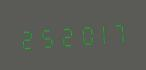five: (35, 22, 52, 51)
one: (90, 18, 107, 47)
seven: (108, 17, 125, 46)
two: (17, 23, 34, 52), (54, 21, 71, 50)
zero: (72, 20, 89, 48)
